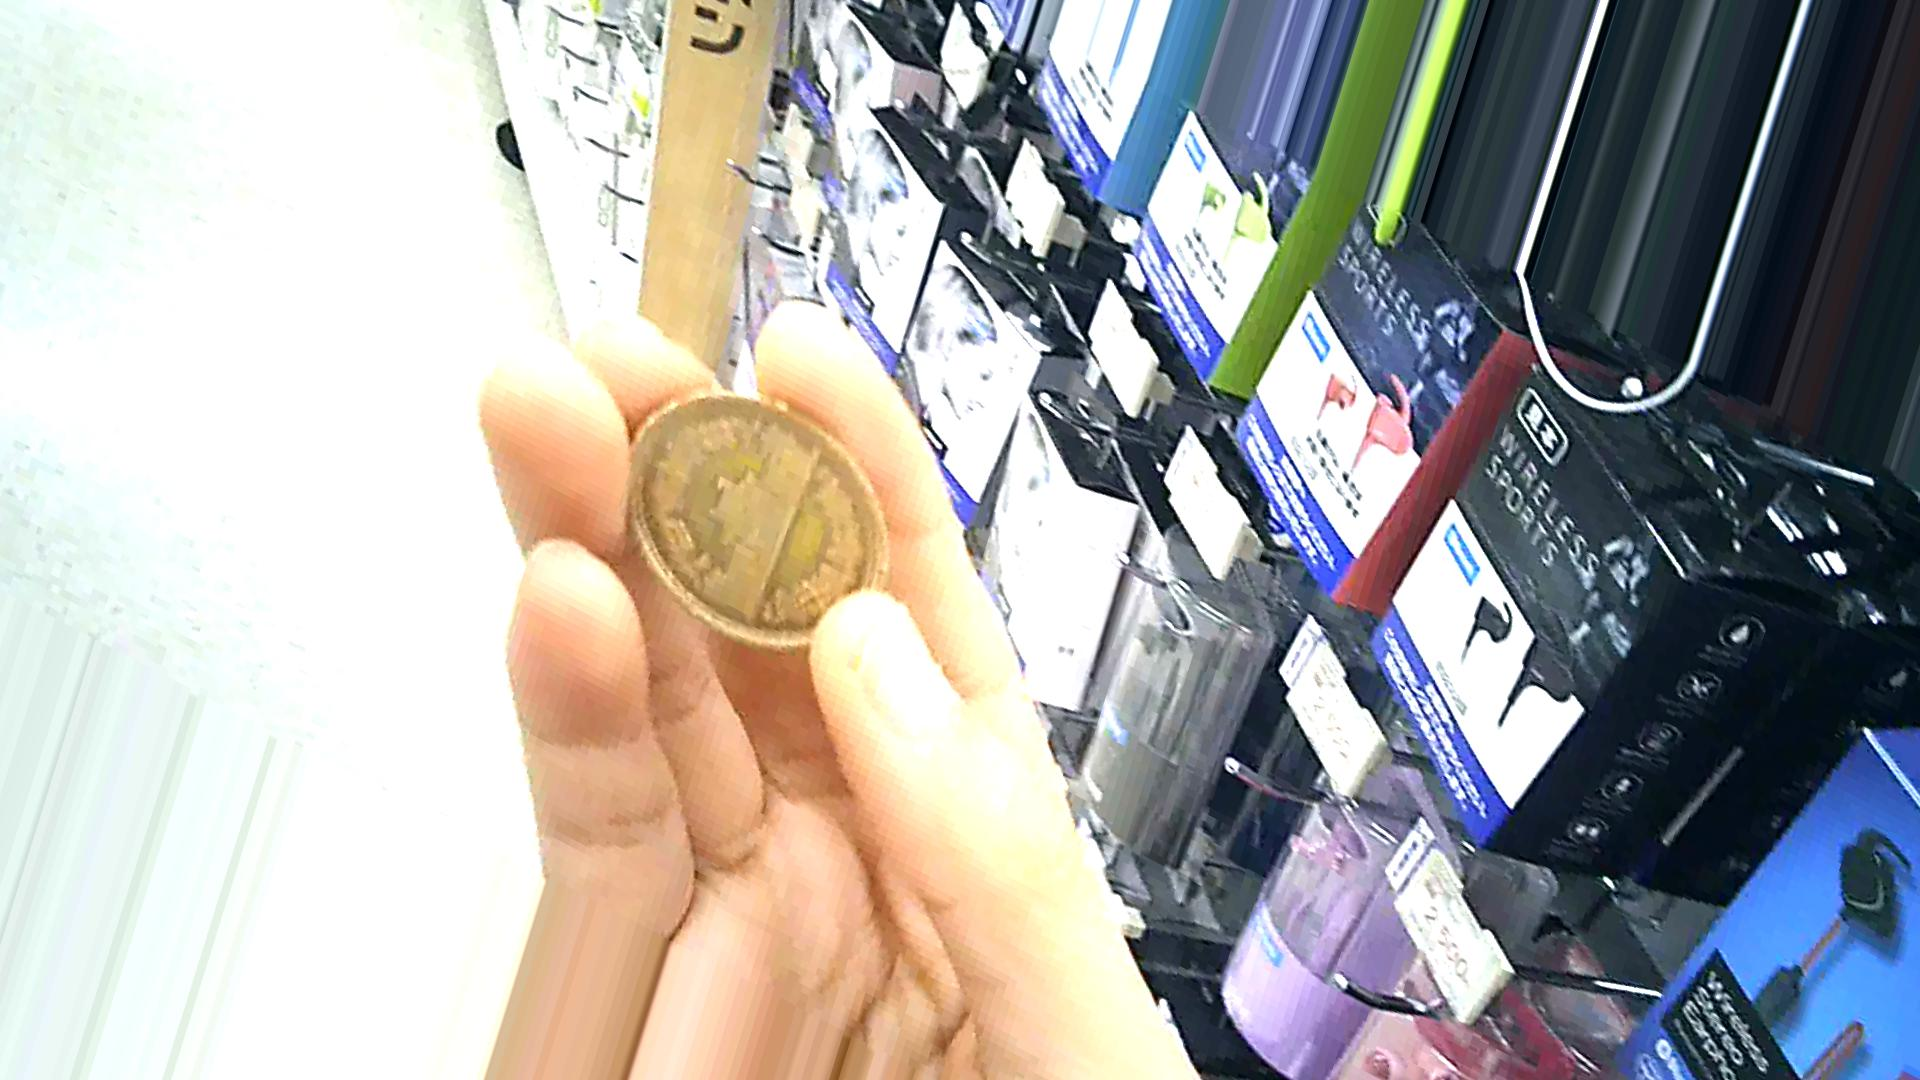10 Yen: (615, 393, 906, 663)
